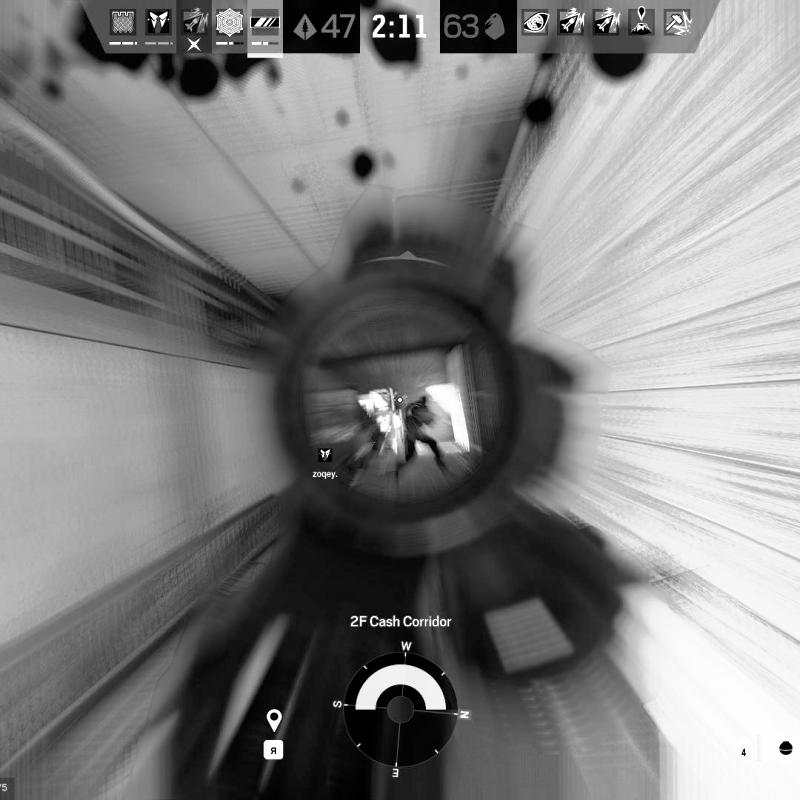Character: (393, 396, 448, 478)
Friend_label: (311, 446, 339, 481)
Head: (418, 396, 428, 405)
